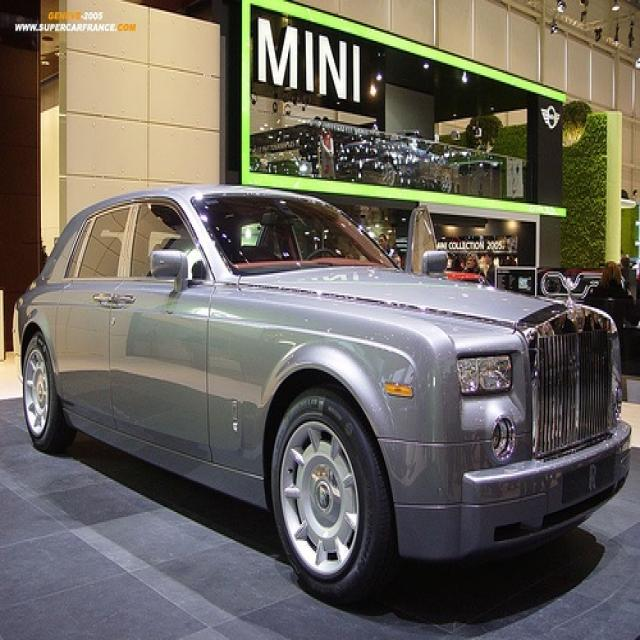car: (16, 186, 634, 606)
